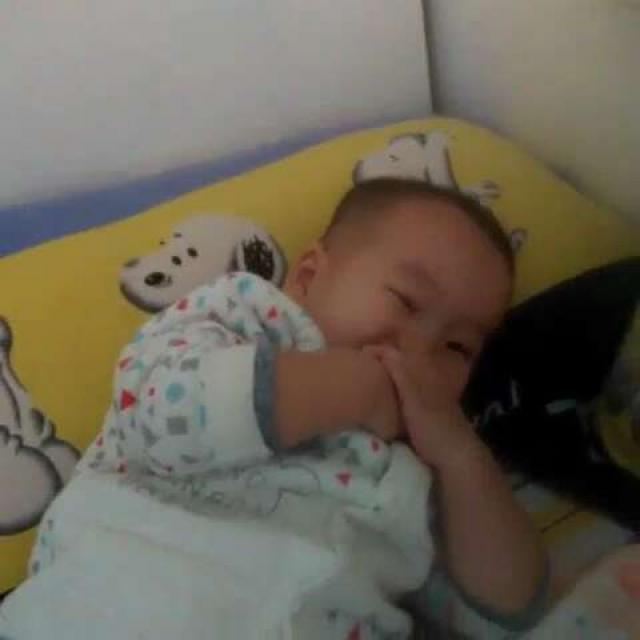mask: (315, 220, 496, 436)
